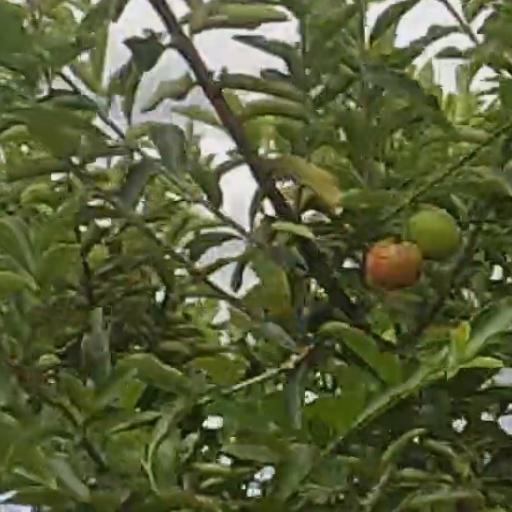acerola_verde: (414, 210, 461, 258)
acerola_vermelha: (369, 243, 421, 288)
